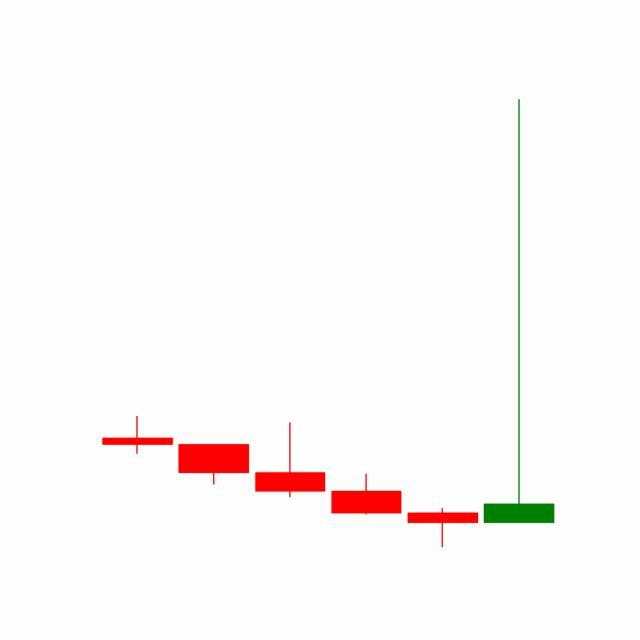Hammer: (404, 507, 482, 549)
